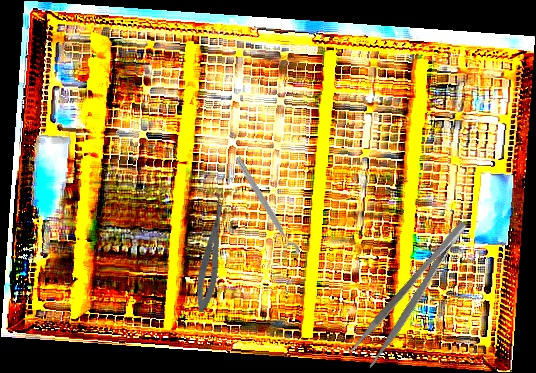Dressing Forceps: (347, 218, 482, 369)
Fixation Ring: (226, 154, 302, 262)
Micro Scissor: (190, 194, 234, 314)
